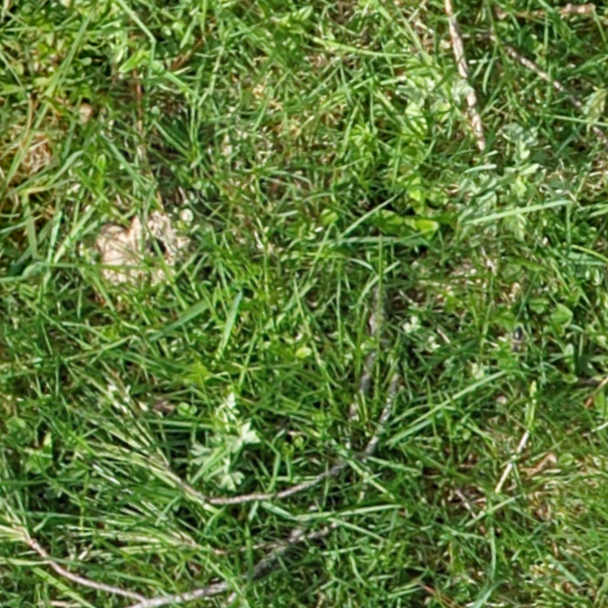nest: (94, 212, 194, 297)
